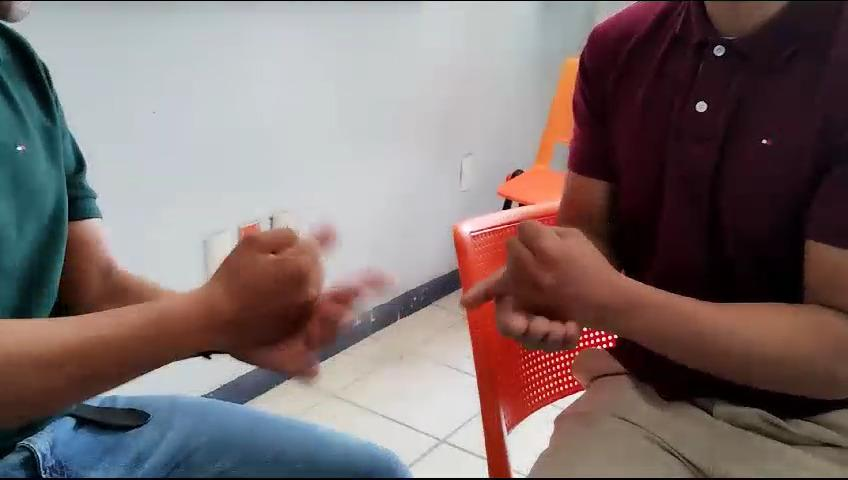Stone: (166, 197, 351, 357), (478, 199, 651, 369)
